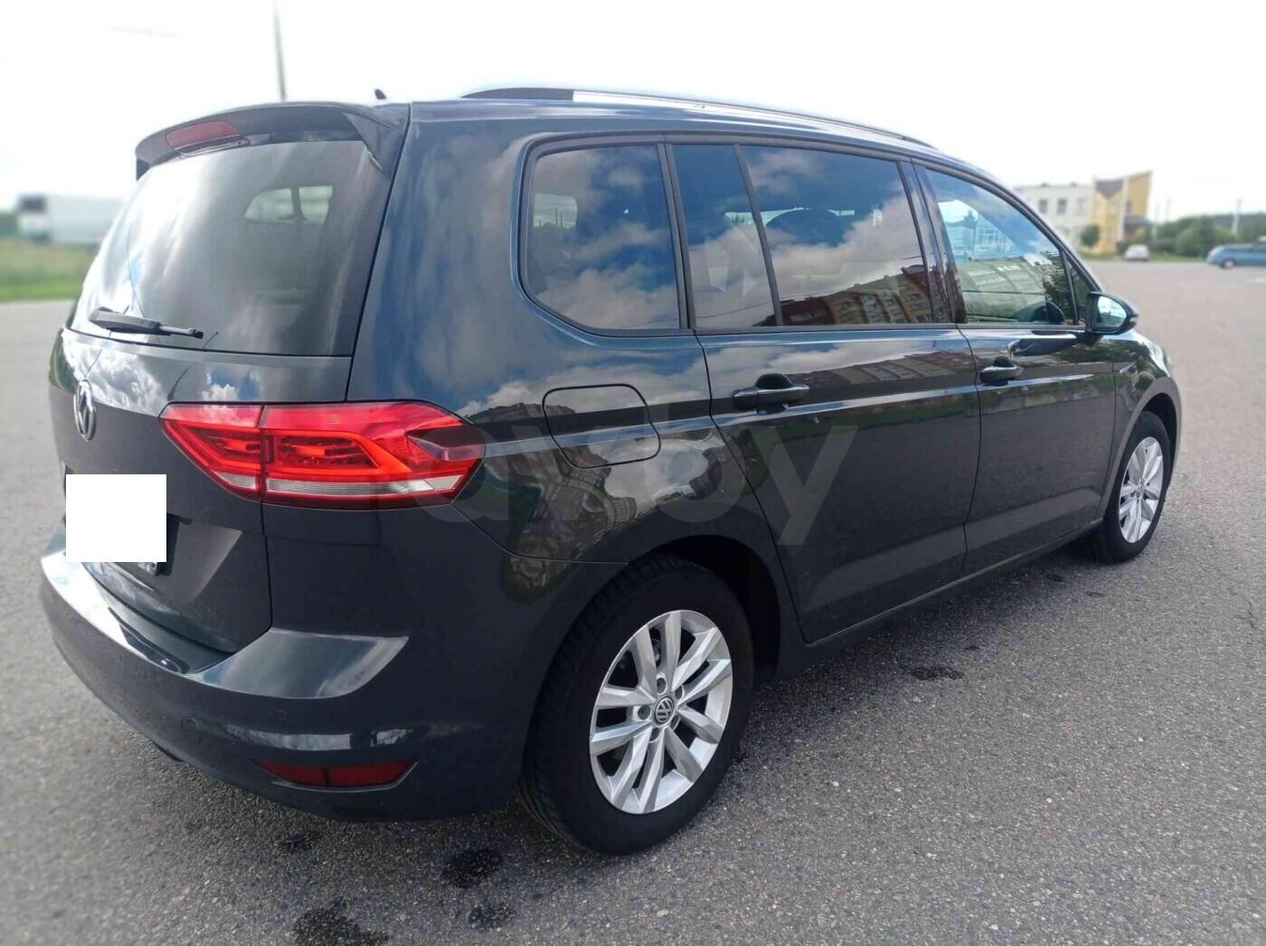Touran_2015: (34, 90, 1182, 857)
